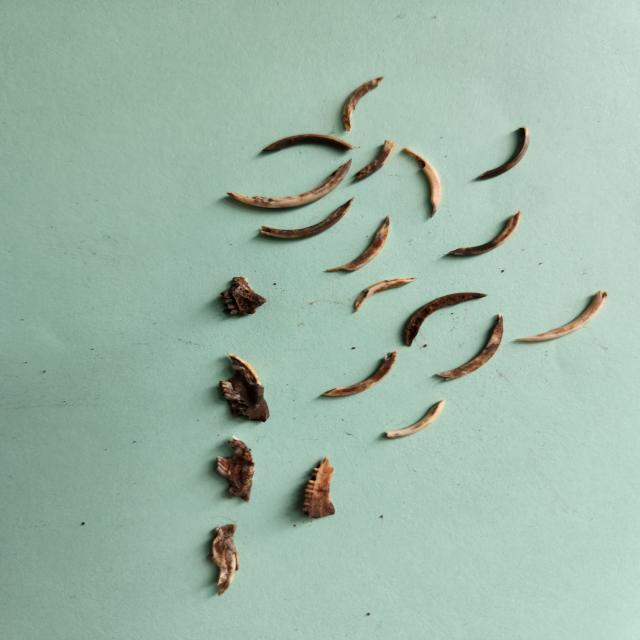fossil: (216, 156, 354, 214), (512, 286, 612, 346), (396, 290, 493, 350), (430, 312, 507, 384), (252, 196, 356, 246), (210, 348, 276, 426), (315, 348, 405, 401), (320, 213, 393, 276), (438, 208, 525, 260), (202, 518, 251, 600), (396, 145, 448, 222), (208, 432, 260, 506), (471, 124, 533, 186), (296, 453, 346, 524), (376, 396, 450, 442), (337, 73, 392, 134), (212, 274, 277, 322), (256, 130, 363, 158), (348, 275, 420, 315), (346, 137, 398, 185)
